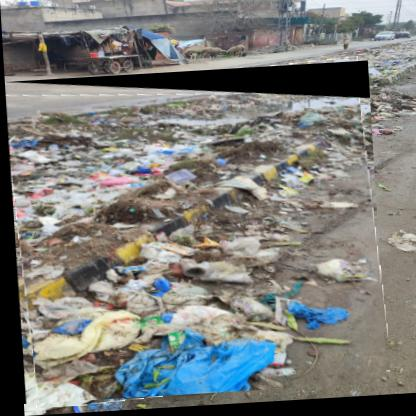Garbage: (5, 66, 384, 406)
